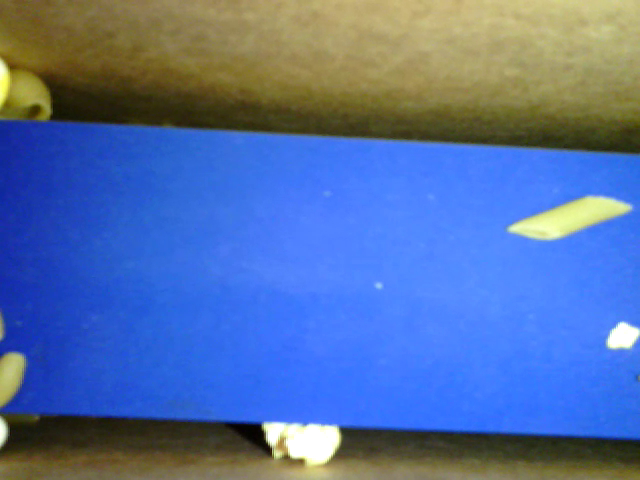penne: (504, 197, 633, 242)
shell: (1, 68, 57, 121)
